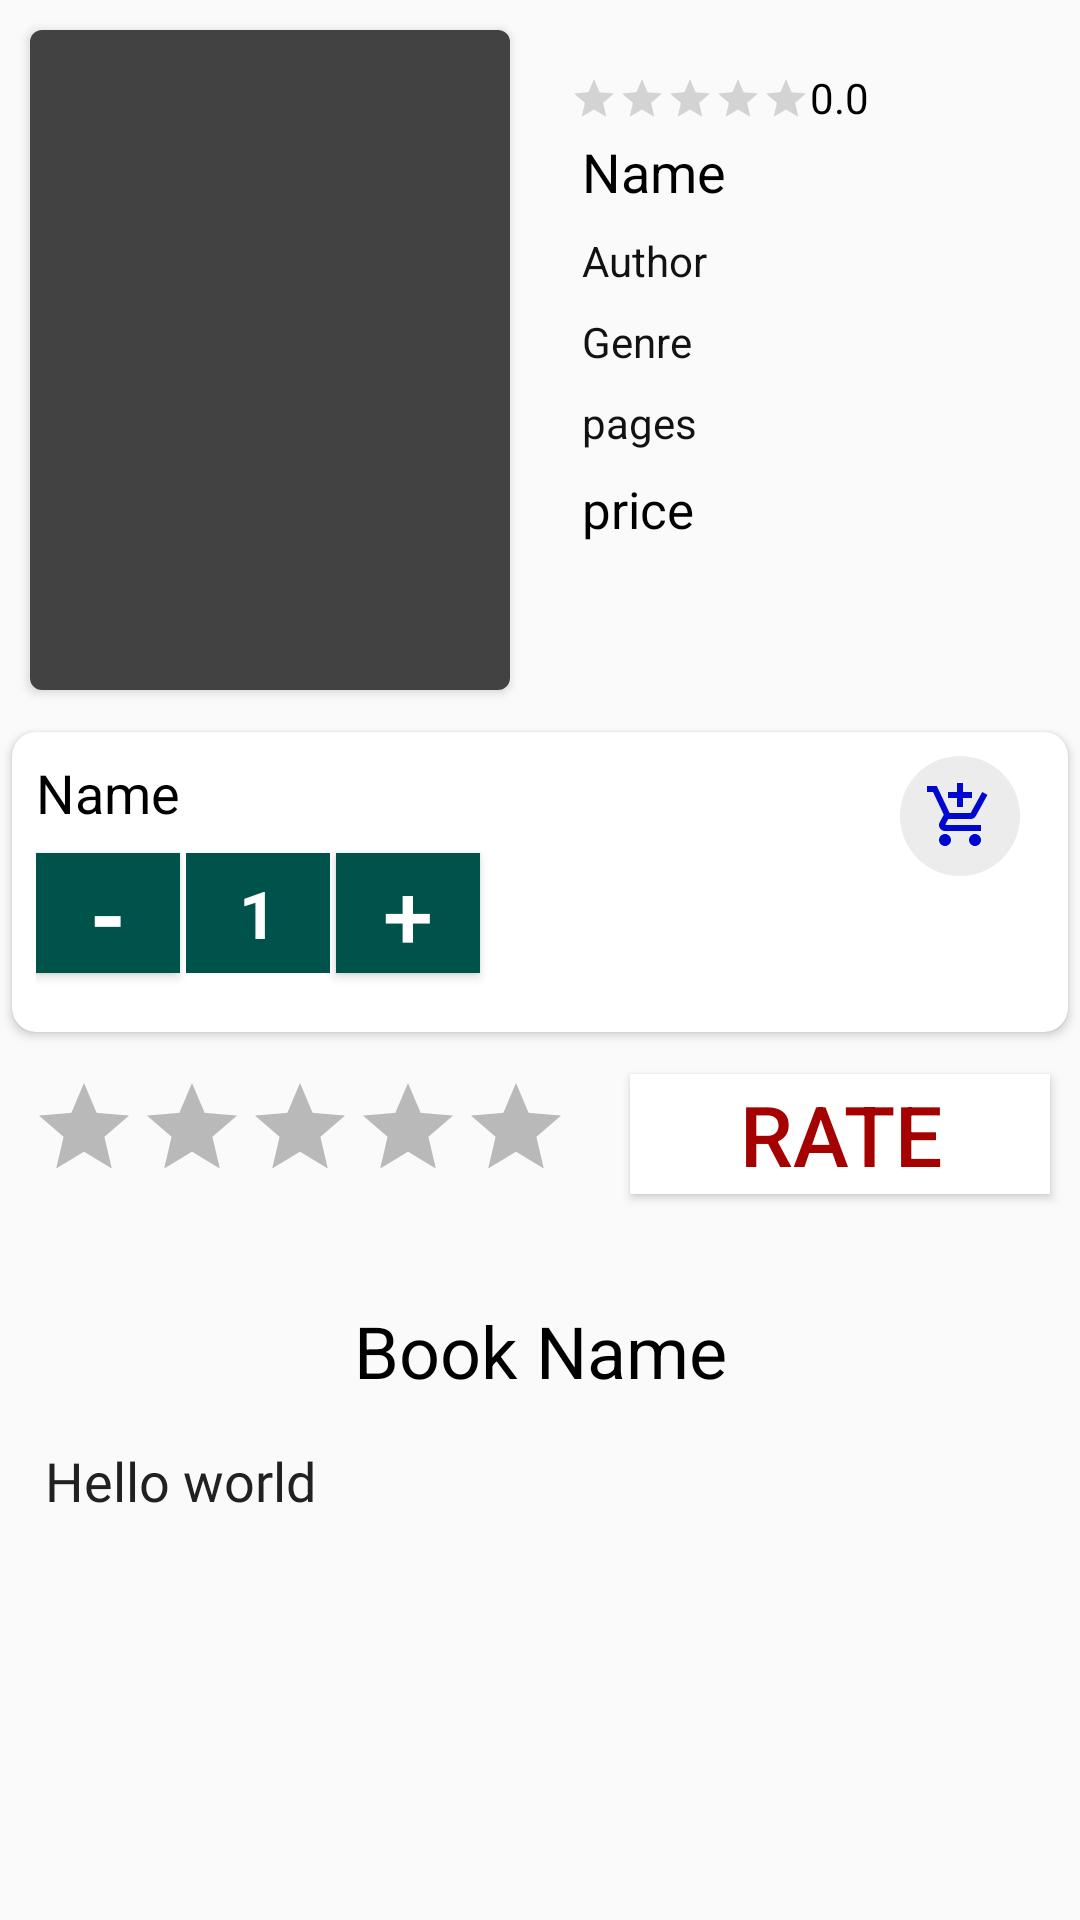

Where icons sit on this 1080x1920 app screen, as (x1, y1, x2, y2):
add shopping cart: (900, 756, 1020, 876)
